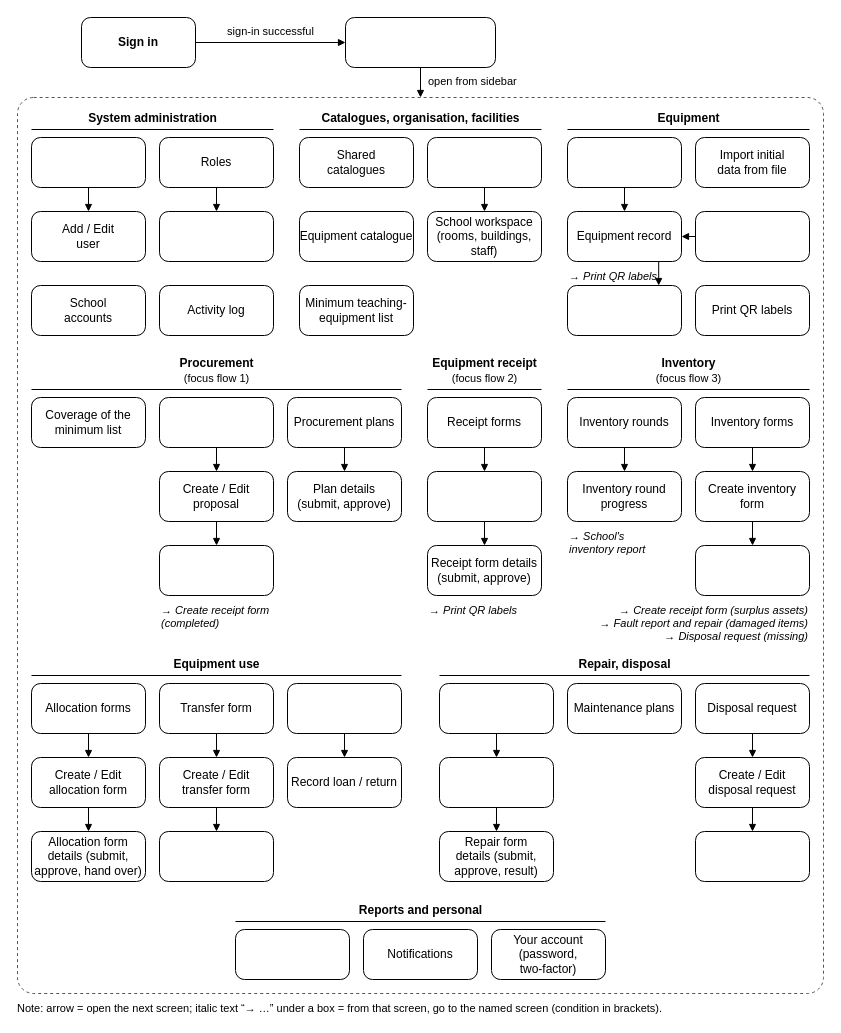
Image size: 841x1033. Some labels were removed from this diagram. Each missing label, with the centre of its shape:
"Borrowing and return" belongs at point (344, 708).
"Create / Edit receipt form" belongs at point (484, 496).
"Create / Edit repair form" belongs at point (496, 782).
"Dashboard" belongs at point (420, 42).
"Disposal request details (submit, approve)" belongs at point (752, 856).
"Edit role (permissions, data scope)" belongs at point (216, 236).
"Equipment history" belongs at point (624, 310).
"Equipment list" belongs at point (624, 162).
"Fault report and repair" belongs at point (496, 708).
"Inventory report (count, submit, approve)" belongs at point (752, 570).
"Look up equipment (scan QR)" belongs at point (752, 236).
"Procurement proposals" belongs at point (216, 422).
"Proposal details (submit, approve)" belongs at point (216, 570).
"School overview" belongs at point (484, 162).
"Summary reports" belongs at point (292, 954).
"Transfer form details (submit, approve, receive)" belongs at point (216, 856).
"Users" belongs at point (88, 162).
